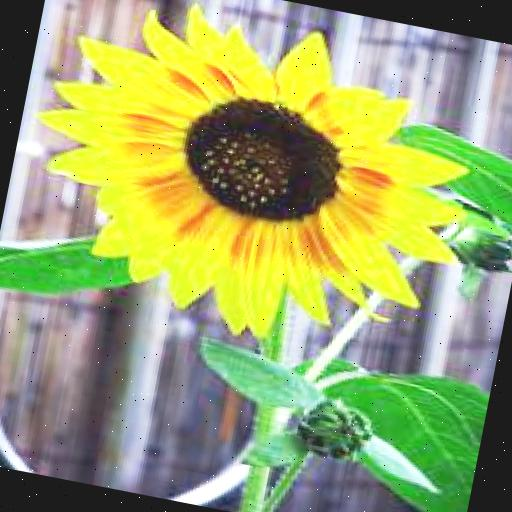sunflower: (16, 0, 493, 364)
